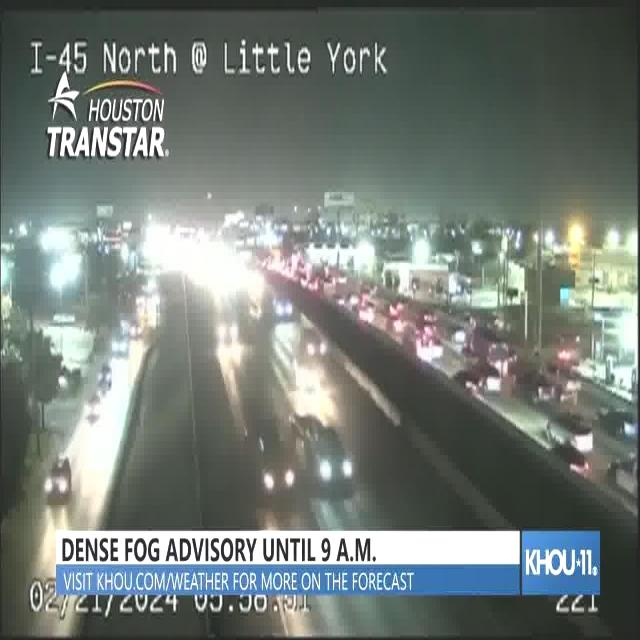Car: (303, 420, 358, 496), (252, 411, 295, 506), (42, 448, 73, 504), (298, 322, 329, 366), (268, 290, 298, 324), (216, 305, 241, 344), (107, 331, 131, 359), (84, 392, 101, 426), (96, 361, 113, 395)
